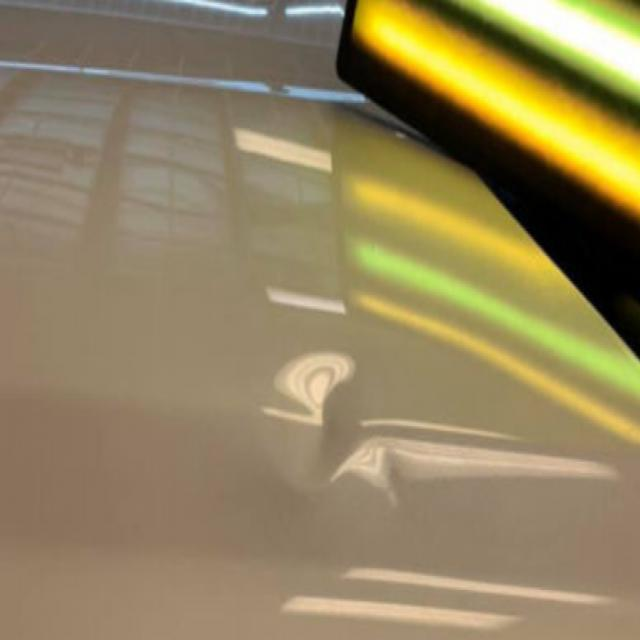dents: (254, 320, 461, 590)
